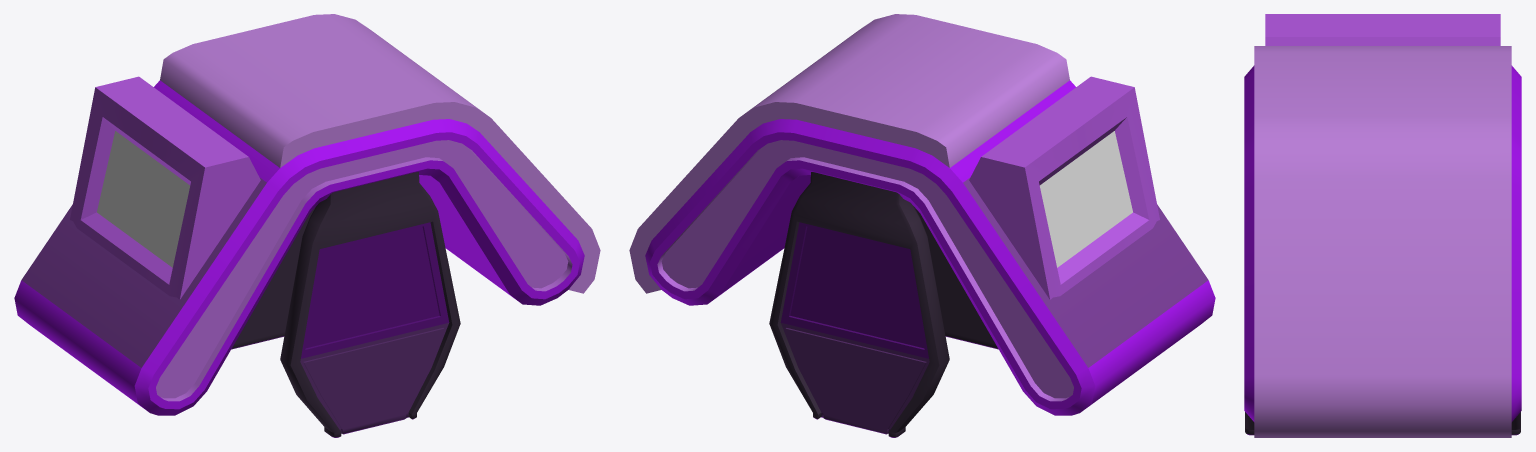
The model's file is mitaVegasBBO_bottomBody.fbx.
The picture shows the model from 3 angles, left to right: view 1: azimuth 30°, elevation 25°; view 2: azimuth 150°, elevation 25°; view 3: azimuth 270°, elevation 25°; orthographic projection. The views are drawn at different scales.
Visible parts, largest first — view 1: bottom_body; view 2: bottom_body; view 3: bottom_body.
Boxes of the visible parts, box(x1,y1,x2,y2) form: bottom_body: box(14, 14, 600, 437); bottom_body: box(629, 14, 1215, 437); bottom_body: box(1244, 14, 1521, 437).
Size of the model in its own units: 62.6 by 39.58 by 30.09.
